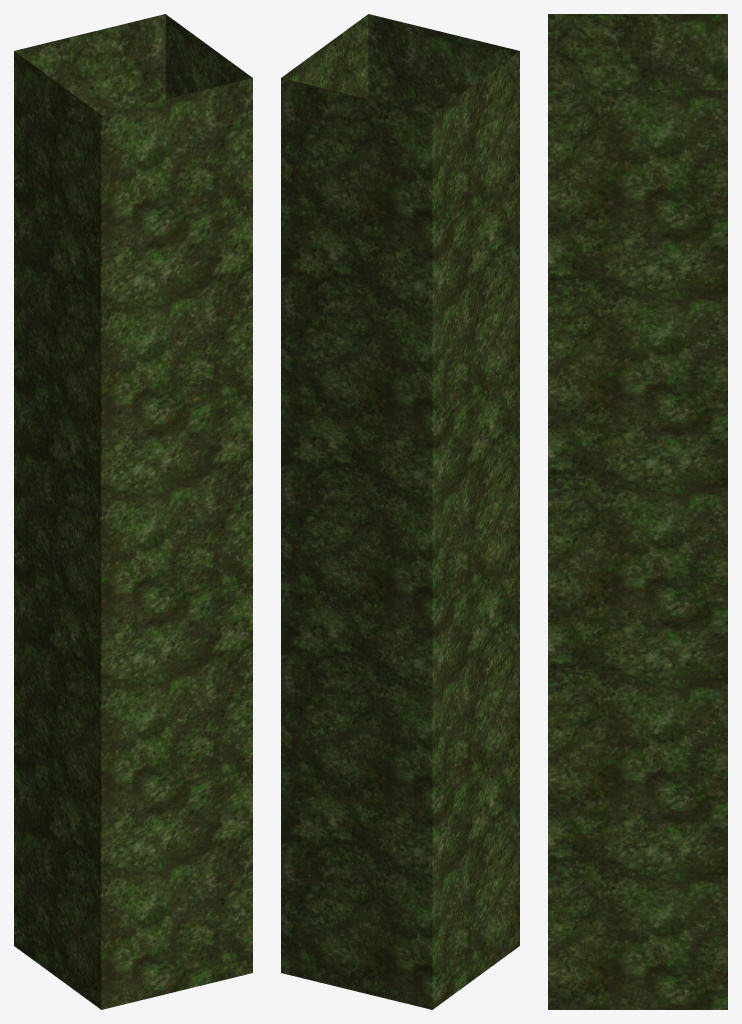
Rendered from OVERHILL_A_01_LINE404.fbx.
3 views of the same model, side by side, from view 1: azimuth 30°, elevation 25°; view 2: azimuth 150°, elevation 25°; view 3: azimuth 270°, elevation 25° (orthographic). The views are drawn at different scales.
Parts seen in each view (by area): view 1: OVERHILL_A_01_LINE404; view 2: OVERHILL_A_01_LINE404; view 3: OVERHILL_A_01_LINE404.
Boxes of the visible parts, x1,y1,x2,y2 form: OVERHILL_A_01_LINE404: (14, 14, 252, 1009); OVERHILL_A_01_LINE404: (281, 14, 519, 1009); OVERHILL_A_01_LINE404: (548, 14, 727, 1009).
Size of the model in its own units: 17889 by 101030 by 17889.
Materials: 1 (1 with a texture image).
